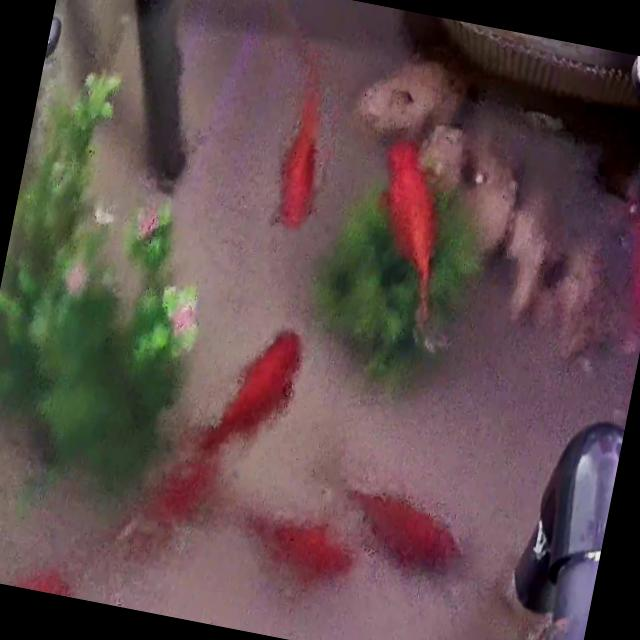fish: (354, 132, 462, 334), (184, 314, 307, 475), (269, 48, 343, 234), (343, 486, 468, 576), (128, 438, 225, 553), (253, 509, 356, 594), (602, 199, 640, 354)
